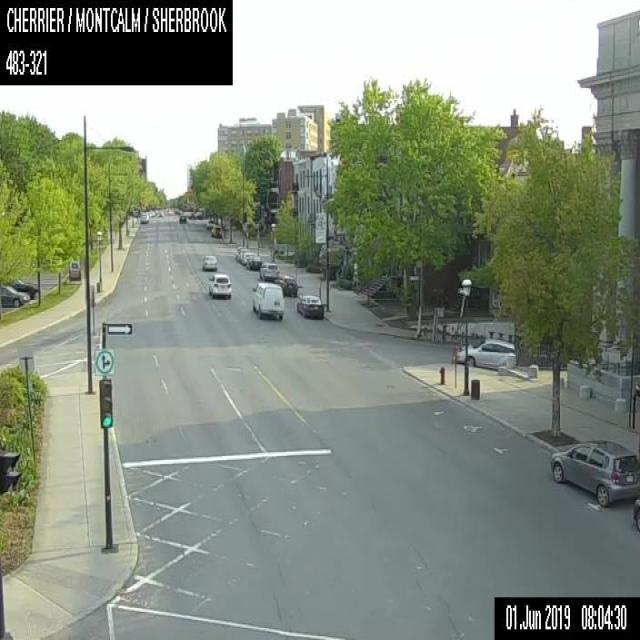vehicle: (550, 439, 639, 505), (452, 337, 514, 368), (250, 281, 284, 319), (207, 272, 231, 299), (296, 294, 322, 318), (0, 285, 28, 307), (10, 279, 37, 298), (275, 274, 297, 296), (258, 261, 279, 280), (632, 496, 639, 531), (202, 254, 217, 270), (246, 255, 262, 269), (242, 251, 254, 264), (211, 224, 221, 236), (140, 212, 148, 222), (178, 212, 186, 221), (206, 220, 214, 228), (195, 210, 203, 218), (188, 210, 195, 218)
